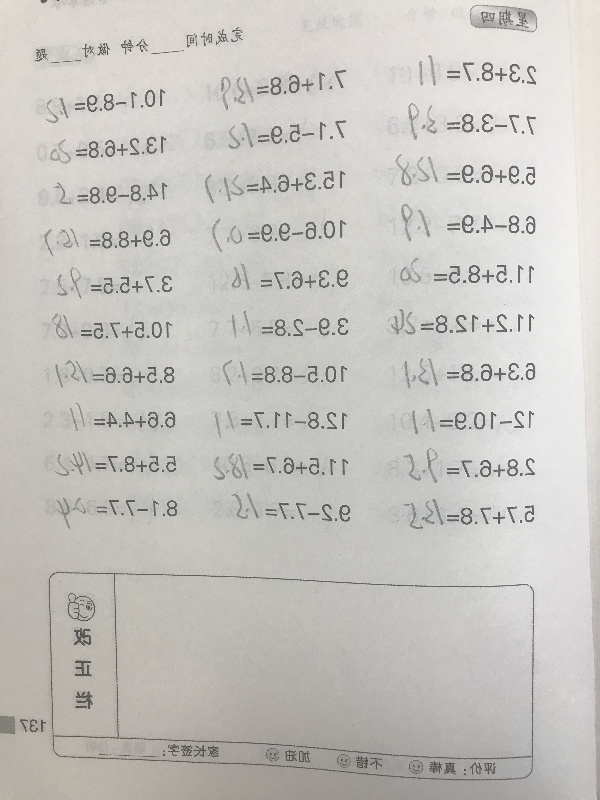equation: (387, 197, 540, 246), (42, 492, 198, 535), (388, 447, 539, 490), (404, 100, 539, 144), (385, 492, 539, 530), (384, 300, 539, 337), (392, 151, 539, 190), (208, 216, 349, 256), (218, 69, 351, 110), (202, 168, 349, 204), (398, 351, 540, 387), (221, 490, 356, 526), (54, 266, 177, 305), (212, 403, 352, 437), (43, 354, 179, 389), (212, 449, 352, 483), (396, 402, 538, 435), (397, 255, 538, 288), (415, 52, 540, 89), (41, 223, 175, 257), (41, 446, 181, 478), (219, 357, 350, 390), (226, 117, 351, 151), (229, 306, 353, 340), (229, 262, 353, 296), (42, 88, 171, 120), (47, 313, 175, 345), (67, 399, 180, 435), (47, 134, 171, 166), (49, 178, 170, 207)
